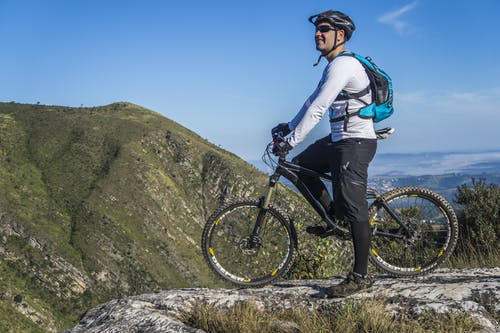bicycle: (197, 119, 462, 292)
